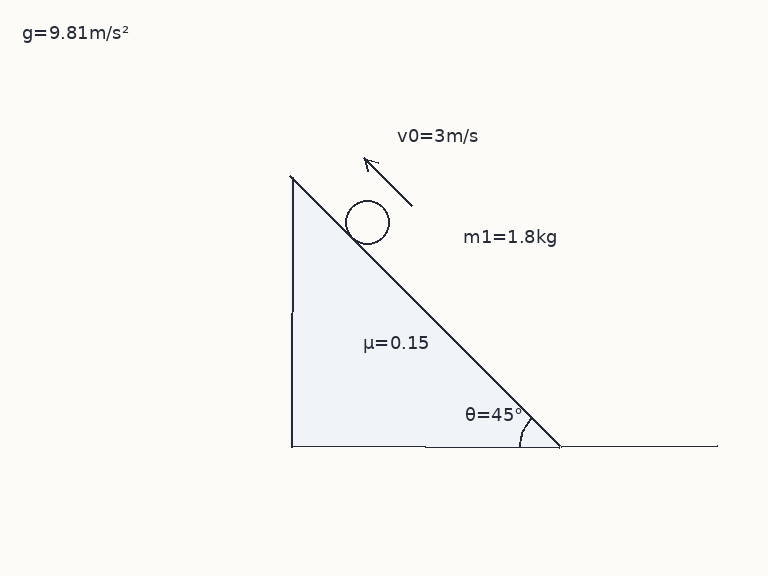ball: (343, 198, 391, 246)
ramp: (289, 175, 562, 448)
